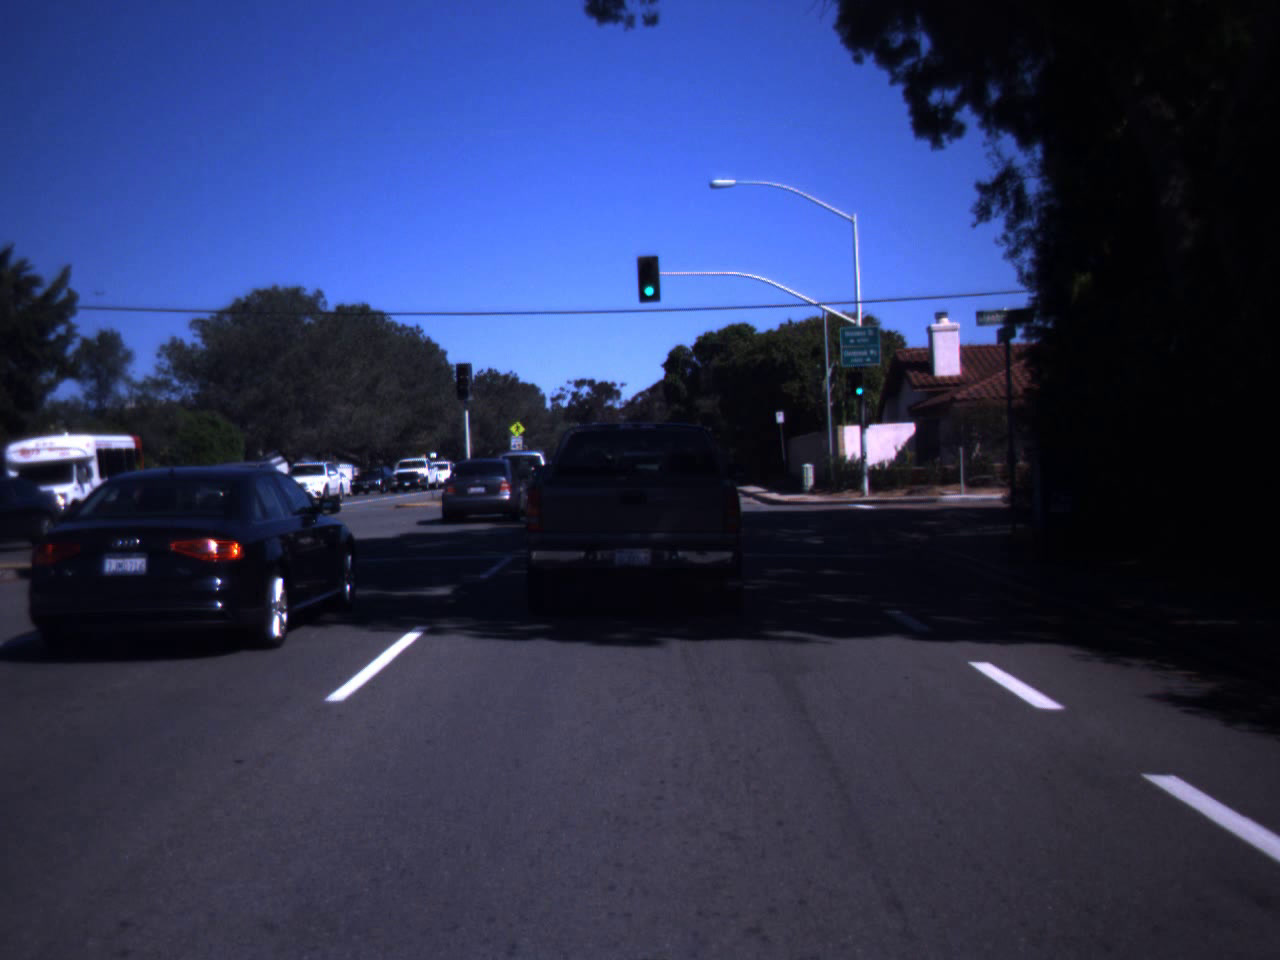go: (637, 259, 661, 299), (852, 371, 867, 396)
